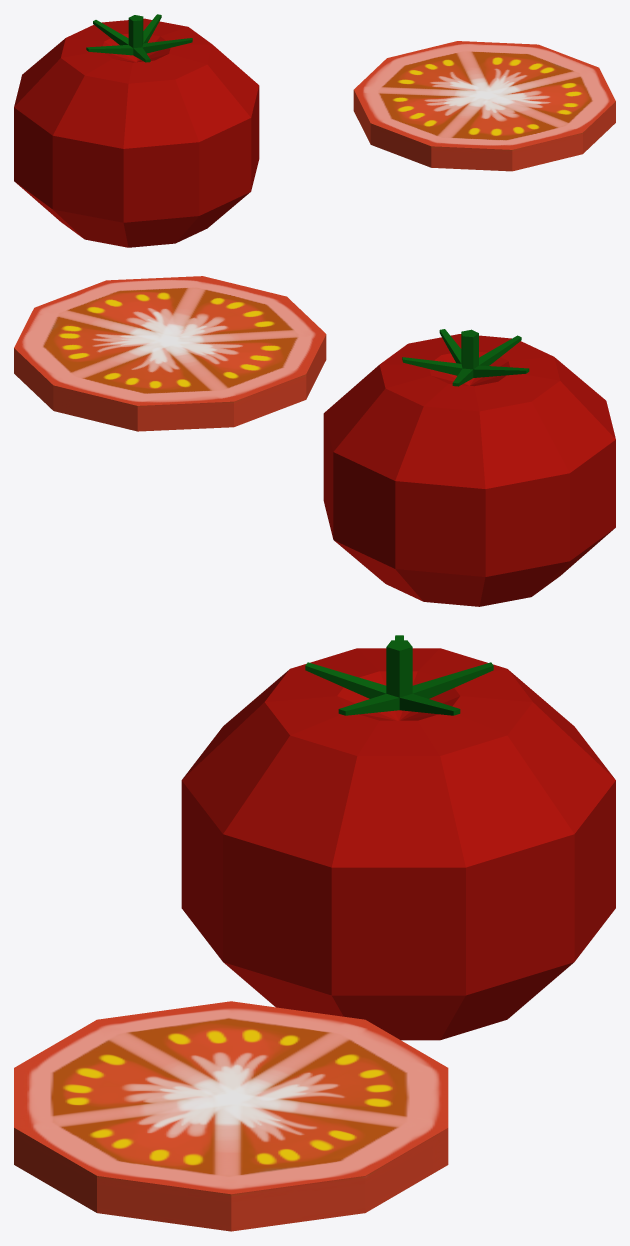
The model's file is tomato.FBX.
The picture shows the model from 3 angles, top to bottom: view 1: azimuth 30°, elevation 25°; view 2: azimuth 150°, elevation 25°; view 3: azimuth 270°, elevation 25°; orthographic projection. The views are drawn at different scales.
Visible parts, largest first — view 1: Sphere001, Cylinder001, Cylinder002; view 2: Sphere001, Cylinder001, Cylinder002; view 3: Sphere001, Cylinder001, Cylinder002.
Part boxes in pixels (left/top/right/bottom): Sphere001: left=14, top=18, right=259, bottom=247; Cylinder001: left=353, top=41, right=615, bottom=171; Cylinder002: left=86, top=14, right=192, bottom=62; Sphere001: left=323, top=334, right=615, bottom=606; Cylinder001: left=14, top=276, right=326, bottom=431; Cylinder002: left=402, top=329, right=529, bottom=386; Sphere001: left=181, top=648, right=615, bottom=1040; Cylinder001: left=14, top=1001, right=448, bottom=1231; Cylinder002: left=305, top=635, right=493, bottom=715.
Size of the model in its own units: 45.31 by 16.78 by 26.36.
